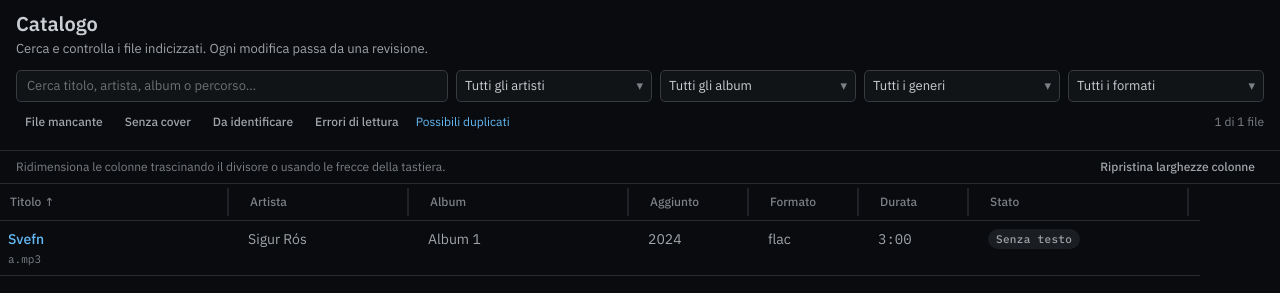
Test: Catalog facets › distinguishes failed facet load from empty and offers retry
Click the button "Tutti gli artisti ▾". click: (554, 86)
box: [456,70,652,102]
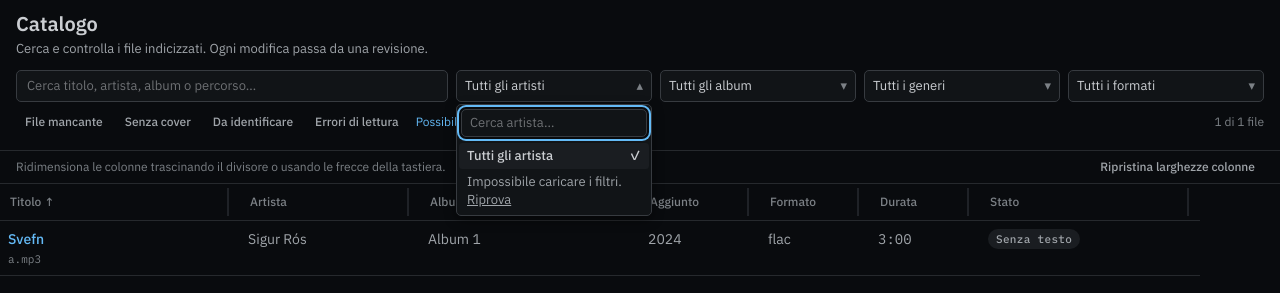
Now the text "Impossibile caricare i filtri." is shown, box [467,173,622,190]
Now the button "Riprova" is shown
Note: retry succeeds
Click the button "Riprova". click: (489, 200)
box: [467,191,511,209]
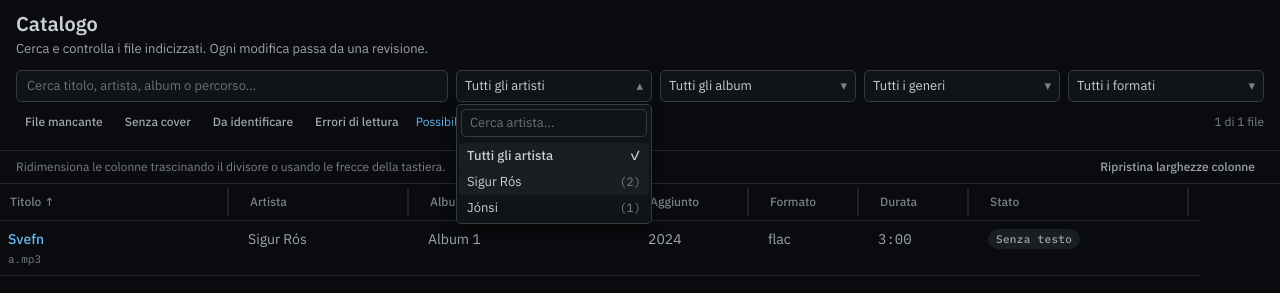
Now the text "Sigur Rós" is shown, box [467,173,522,191]
